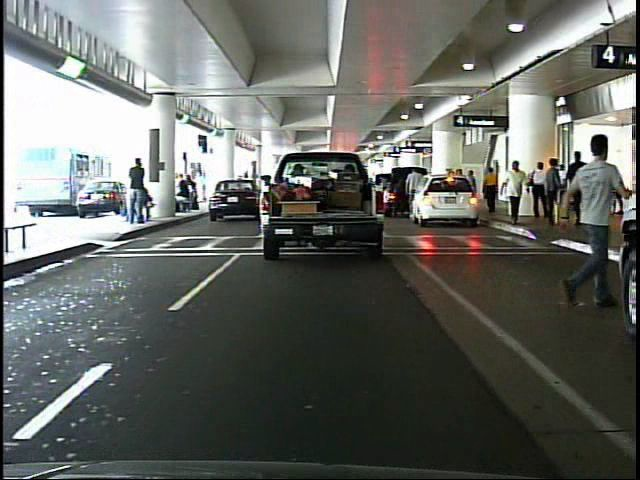person: (549, 115, 631, 325), (568, 144, 596, 231), (501, 157, 532, 229), (599, 162, 631, 222), (129, 158, 153, 227), (542, 153, 562, 231), (529, 161, 551, 223), (403, 164, 426, 220), (483, 163, 502, 213)
